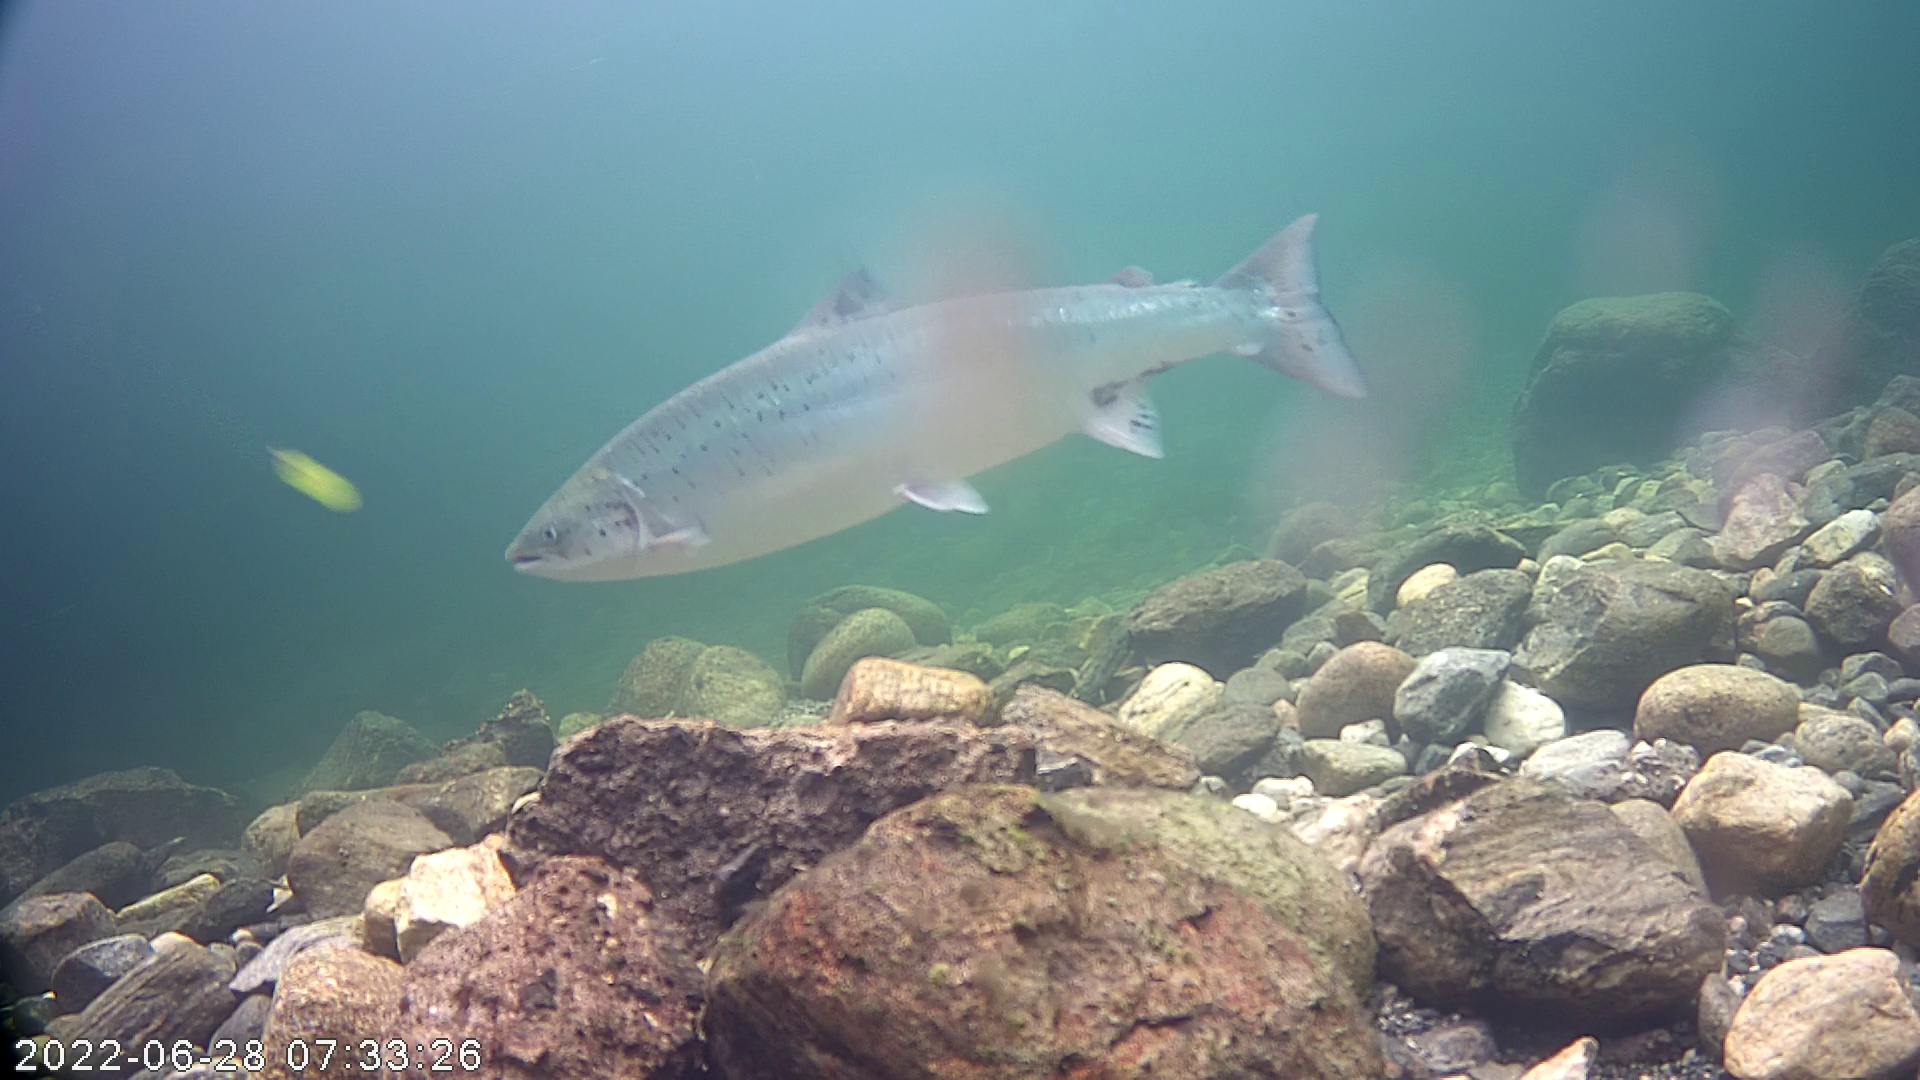salmon: (502, 149, 1400, 611)
